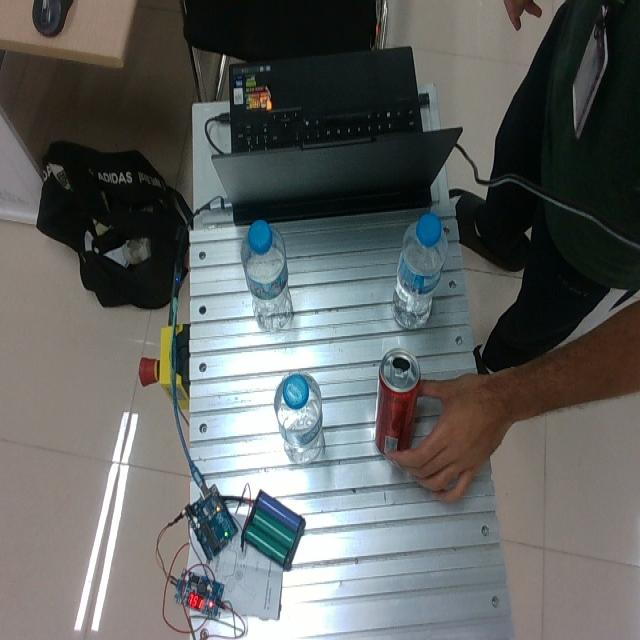coca: (374, 348, 422, 460)
lavie: (392, 213, 447, 331), (240, 219, 292, 332), (274, 369, 324, 463)
